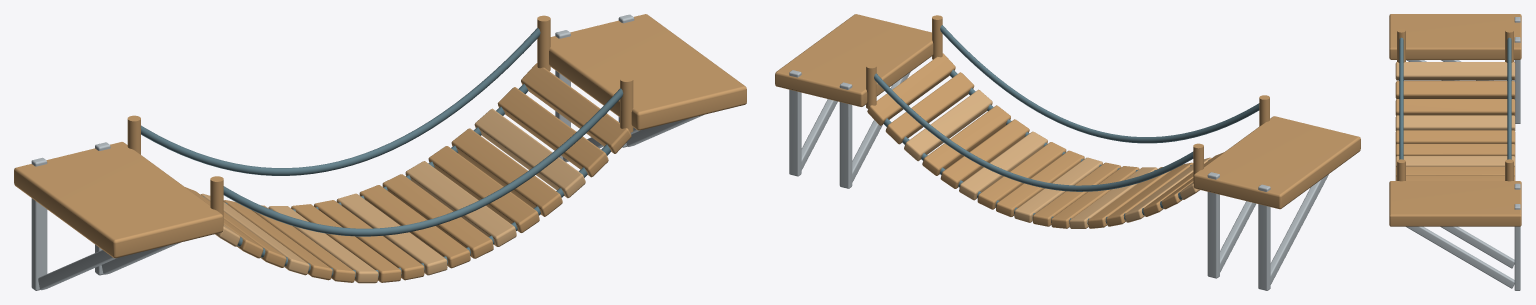
File: cat-wall-bridge.glb
3 views of the same model, side by side, from view 1: azimuth 30°, elevation 25°; view 2: azimuth 150°, elevation 25°; view 3: azimuth 270°, elevation 25° (orthographic). The views are drawn at different scales.
Parts seen in each view (by area): view 1: cat-wall-bridge authored assembly; view 2: cat-wall-bridge authored assembly; view 3: cat-wall-bridge authored assembly.
Boxes of the visible parts, <box> form: cat-wall-bridge authored assembly: <box>14,14,746,290</box>; cat-wall-bridge authored assembly: <box>775,14,1360,290</box>; cat-wall-bridge authored assembly: <box>1389,14,1521,290</box>.
Size of the model in its own units: 1.3 by 0.3 by 0.36.
